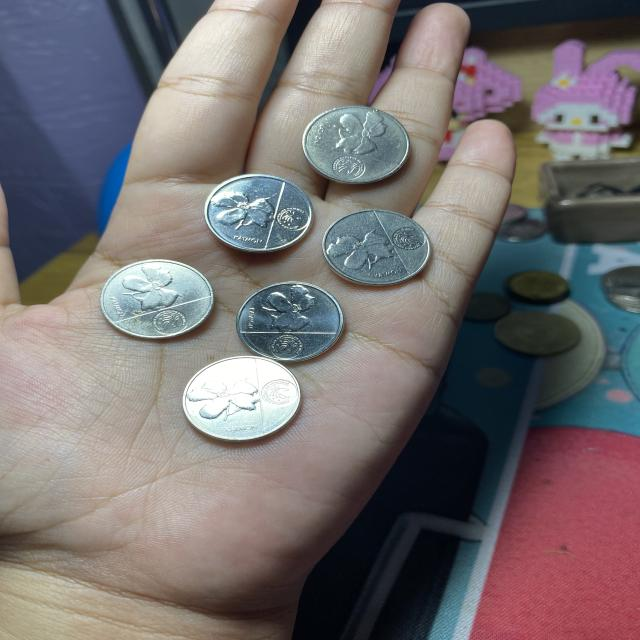25Cent_New_Back: (208, 180, 282, 242), (182, 375, 262, 423), (327, 228, 403, 274), (332, 106, 394, 159), (260, 290, 332, 333), (116, 266, 188, 305)
